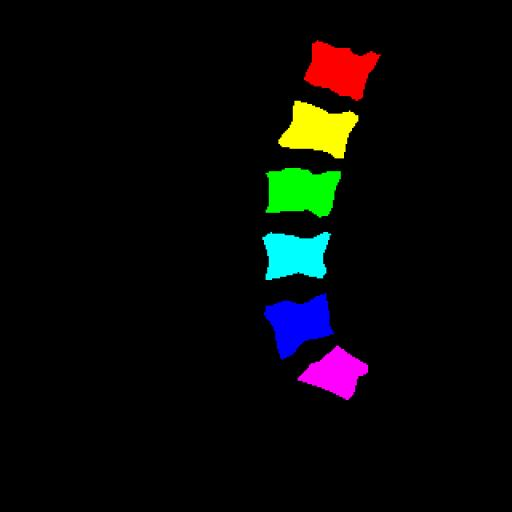L1: (304, 43, 380, 100)
L2: (278, 101, 358, 158)
L3: (266, 168, 340, 216)
L4: (264, 232, 331, 279)
L5: (264, 294, 333, 358)
S1: (298, 346, 368, 400)
